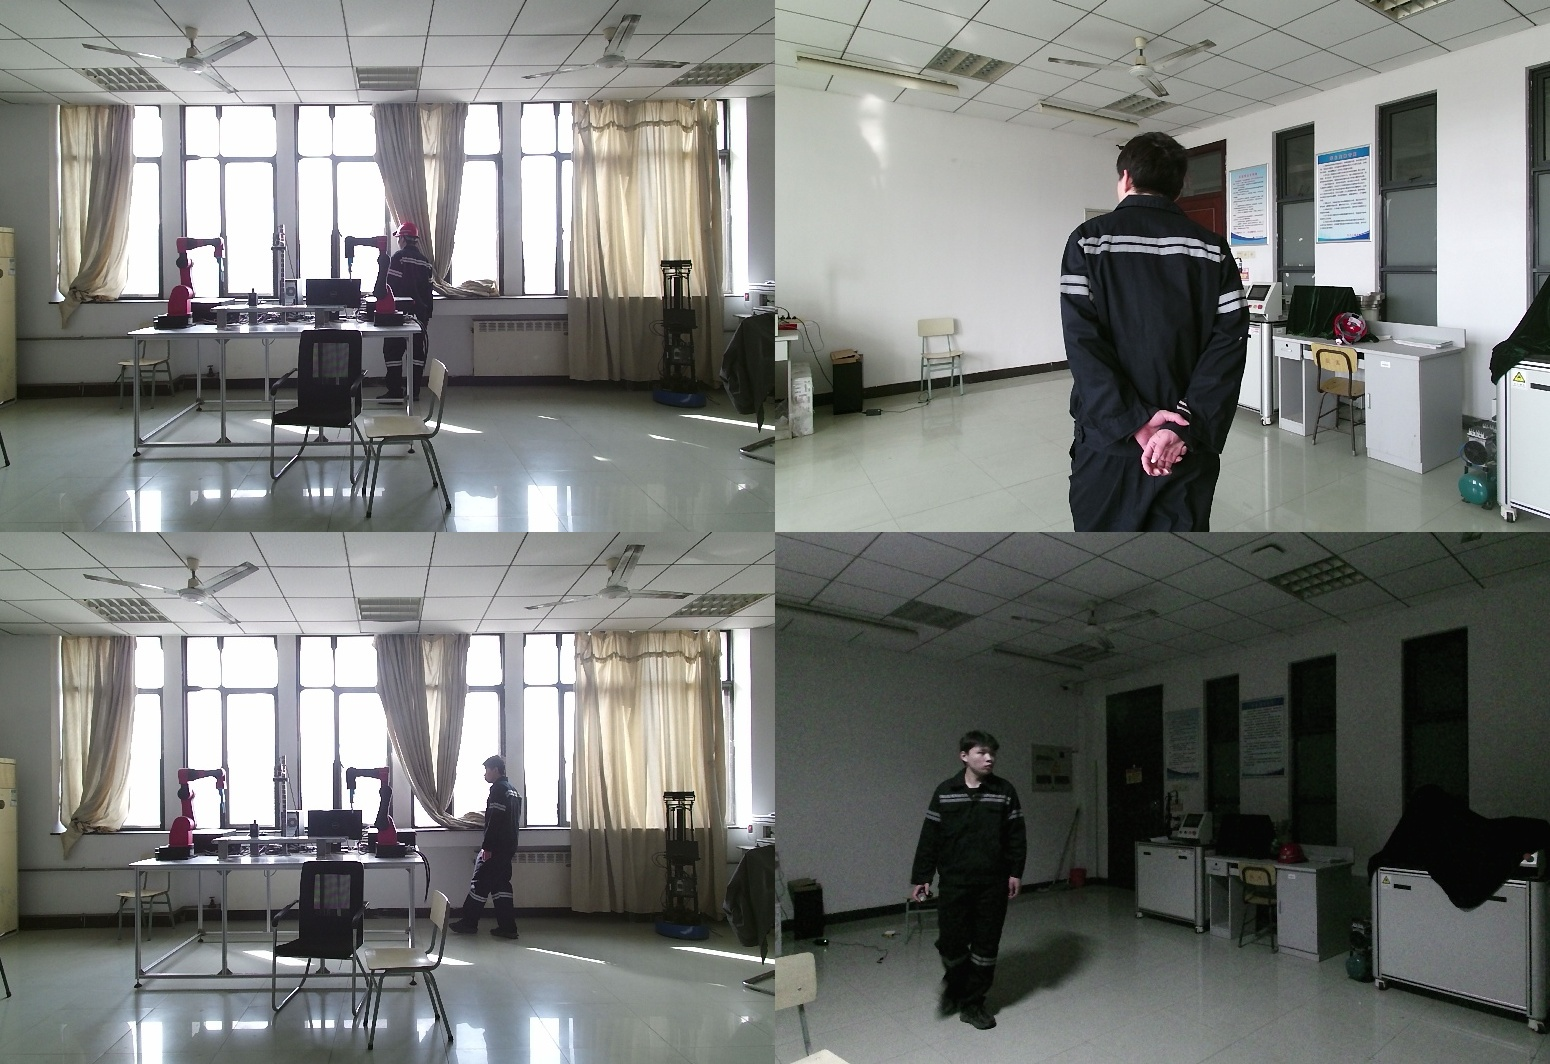person: (1063, 132, 1269, 532), (911, 731, 1036, 1028), (455, 758, 525, 943), (373, 224, 437, 402)
